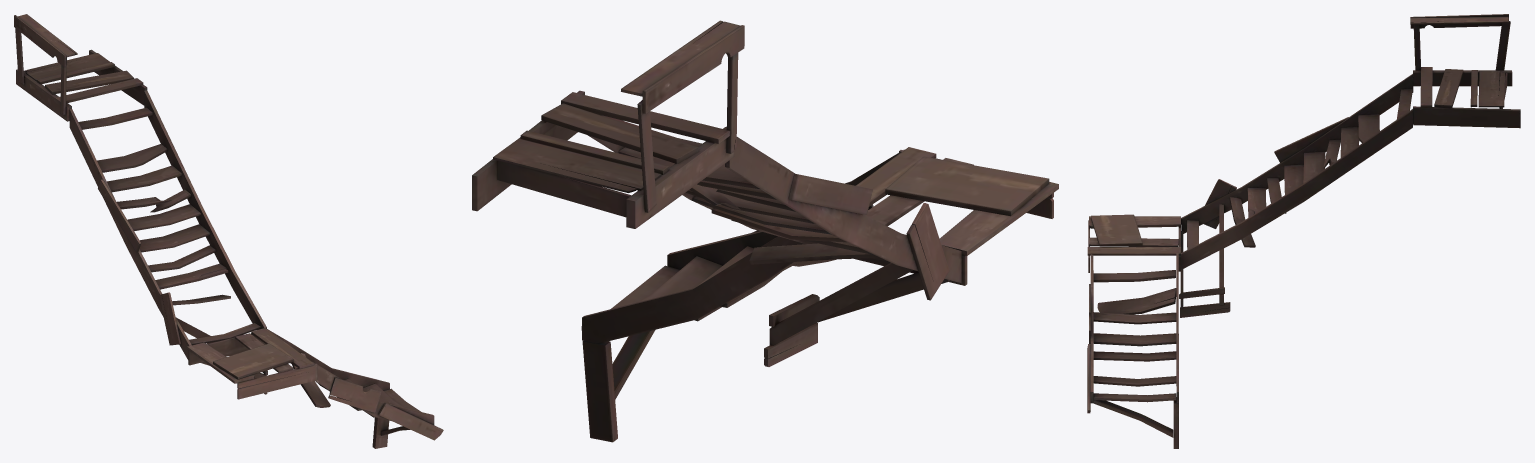
3 renders of one model, left to right at view 1: azimuth 30°, elevation 25°; view 2: azimuth 150°, elevation 25°; view 3: azimuth 270°, elevation 25°, orthographic. The views are drawn at different scales.
Parts seen in each view (by area): view 1: body0_model0_lod0_mesh0; view 2: body0_model0_lod0_mesh0; view 3: body0_model0_lod0_mesh0.
Boxes of the visible parts, left/top/right/bottom form: body0_model0_lod0_mesh0: left=14, top=14, right=443, bottom=448; body0_model0_lod0_mesh0: left=472, top=20, right=1058, bottom=442; body0_model0_lod0_mesh0: left=1087, top=14, right=1520, bottom=448.
Size of the model in its own units: 177 by 281 by 323.
1 material, 1 textured.
